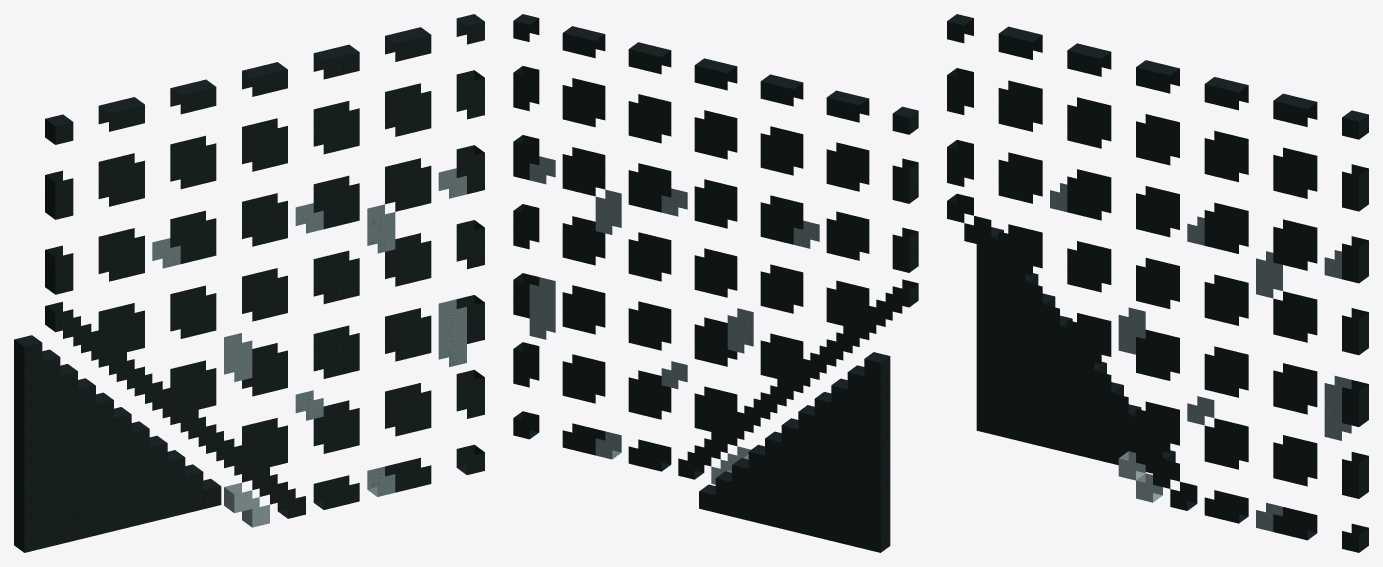
3 renders of one model, left to right at view 1: azimuth 30°, elevation 25°; view 2: azimuth 150°, elevation 25°; view 3: azimuth 330°, elevation 25°, orthographic. The views are drawn at different scales.
Size of the model in its own units: 2.4 by 2.4 by 0.4.
